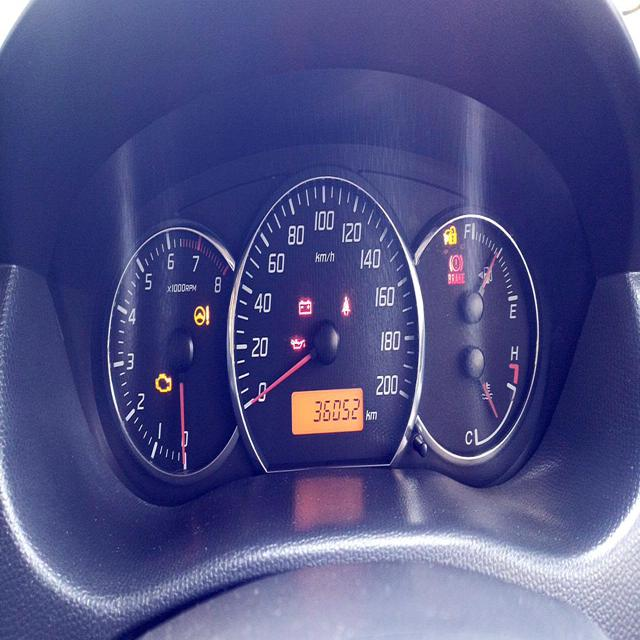odometer: (312, 394, 359, 424)
